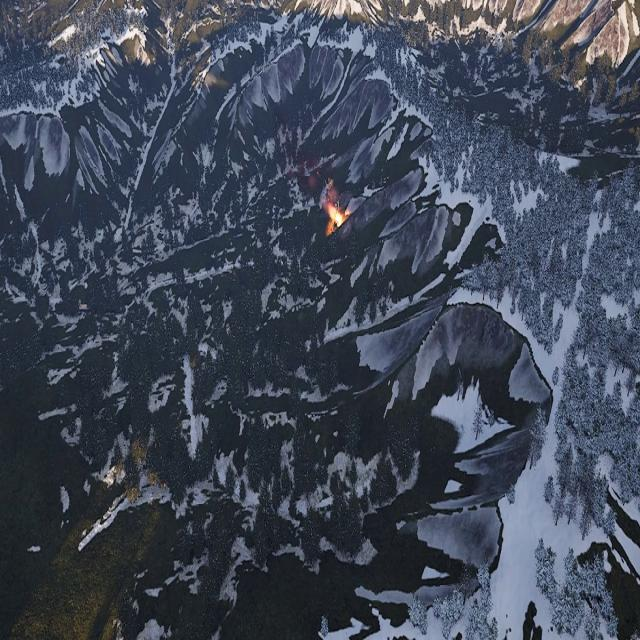fire: (327, 204, 346, 233)
smoke: (289, 151, 336, 211)
